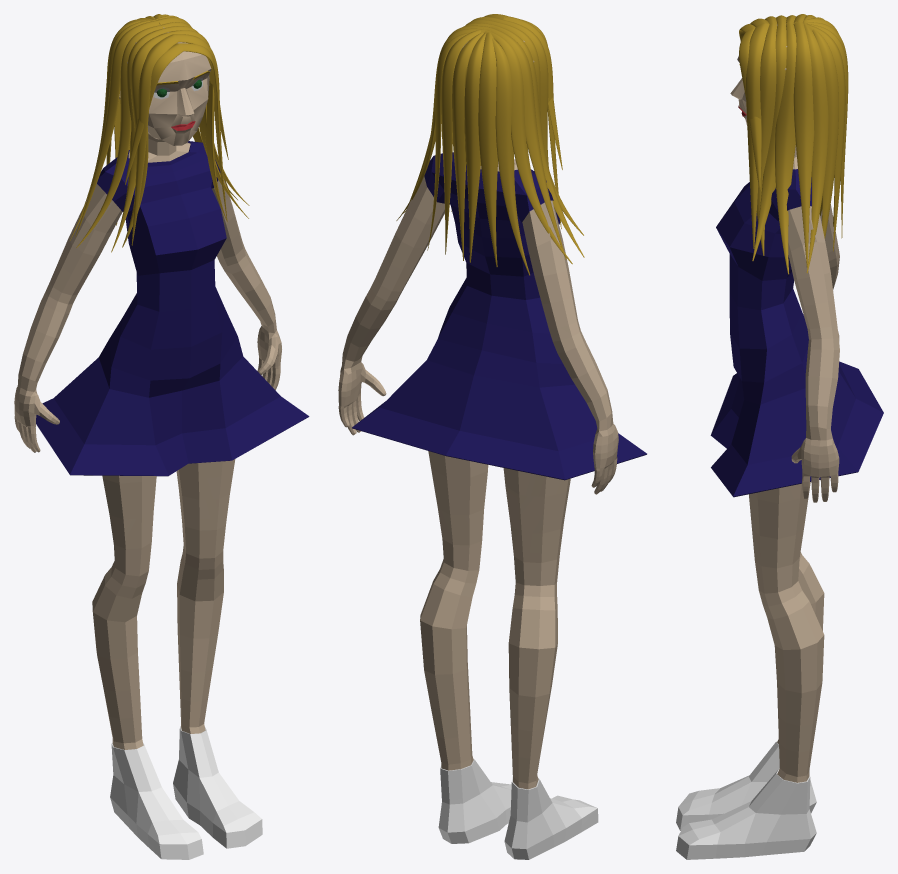
Rendered from Char-model_Female_DenemeIcin-05.01.fbx.
The picture shows the model from 3 angles, left to right: view 1: azimuth 30°, elevation 25°; view 2: azimuth 150°, elevation 25°; view 3: azimuth 270°, elevation 25°; orthographic projection. The views are drawn at different scales.
Parts seen in each view (by area): view 1: Char_Clothes1, Character, Char_Shoes, H1.008, H1.004, H1.002, H1.001, H1.003, H1.009, H1; view 2: Character, Char_Clothes1, Char_Shoes, H1.006, H1.007, H1.005, H1, H1.001, H1.002, H1.004, H1.008, H1.003; view 3: Char_Clothes1, Character, Char_Shoes, H1.001, H1.002, H1, H1.008, H1.005, H1.004, H1.003, H1.006, H1.009 (+1 smaller).
Part boxes in pixels (x1,y1,x2,y2): Char_Clothes1: (36, 141, 309, 476); Character: (14, 27, 281, 749); Char_Shoes: (110, 726, 262, 859); H1.008: (131, 34, 227, 245); H1.004: (122, 30, 226, 247); H1.002: (76, 22, 249, 247); H1.001: (75, 17, 229, 236); H1.003: (111, 26, 248, 252); H1.009: (125, 43, 228, 184); H1: (70, 15, 237, 240); Character: (338, 40, 618, 789); Char_Clothes1: (352, 152, 646, 480); Char_Shoes: (438, 759, 598, 859); H1.006: (441, 28, 497, 266); H1.007: (452, 32, 485, 262); H1.005: (427, 32, 529, 275); H1: (396, 28, 572, 264); H1.001: (405, 25, 566, 259); H1.002: (403, 23, 584, 257); H1.004: (451, 17, 548, 211); H1.008: (484, 14, 561, 228); H1.003: (465, 19, 583, 235); Char_Clothes1: (710, 169, 883, 497); Character: (730, 24, 839, 782); Char_Shoes: (676, 741, 816, 859); H1.001: (793, 14, 814, 267); H1.002: (775, 15, 796, 274); H1: (803, 15, 828, 273); H1.008: (746, 18, 769, 248); H1.005: (808, 17, 838, 238); H1.004: (756, 16, 776, 255); H1.003: (752, 15, 786, 260); H1.006: (802, 18, 845, 251); H1.009: (739, 24, 761, 189).
Size of the model in its own units: 55 by 161 by 37.14.
